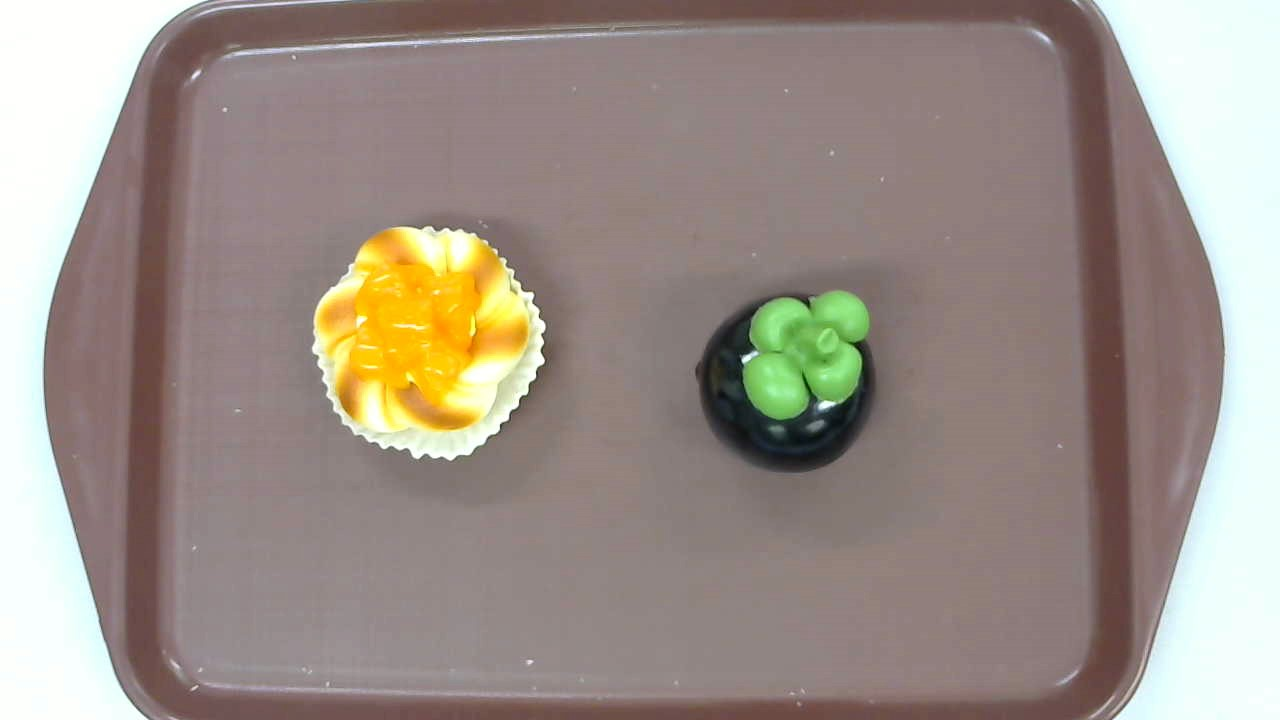mango tart: (312, 224, 547, 463)
mangosteen: (695, 289, 876, 472)
